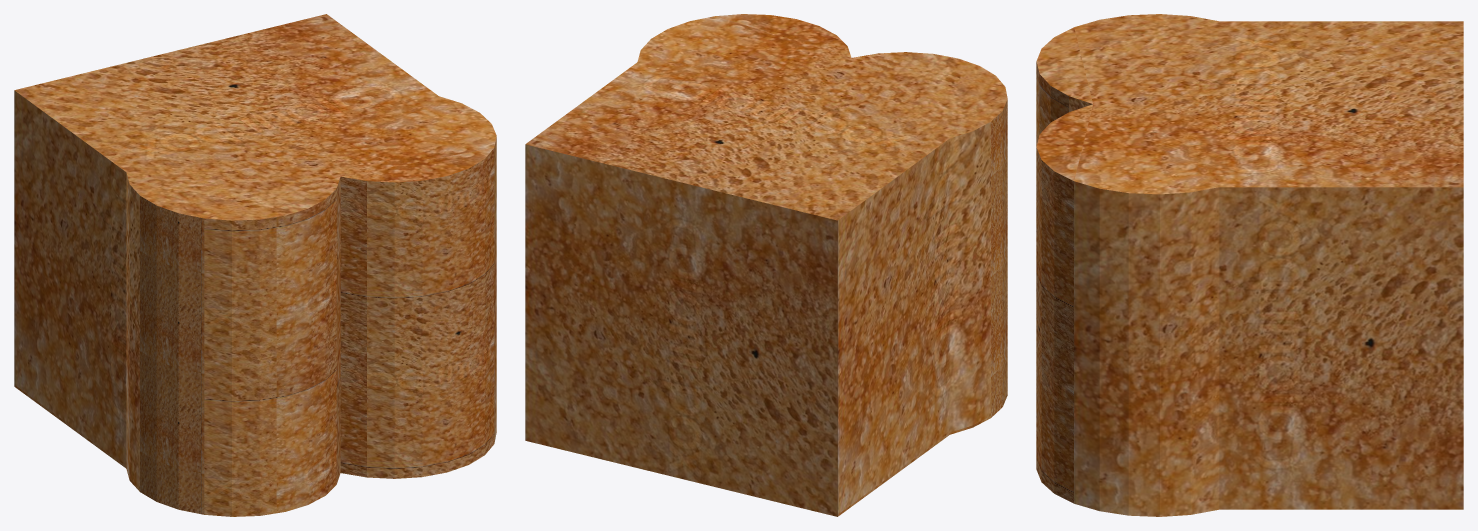
Rendered from bread.obj.
The picture shows the model from 3 angles, left to right: view 1: azimuth 30°, elevation 25°; view 2: azimuth 150°, elevation 25°; view 3: azimuth 270°, elevation 25°; orthographic projection. The views are drawn at different scales.
Parts seen in each view (by area): view 1: bread.002; view 2: bread.002; view 3: bread.002.
Boxes of the visible parts, x1,y1,x2,y2 form: bread.002: (14,14,496,516); bread.002: (525,14,1007,516); bread.002: (1036,14,1463,516).
Size of the model in its own units: 0.048 by 0.04 by 0.048.
Materials: 1 (1 with a texture image).
